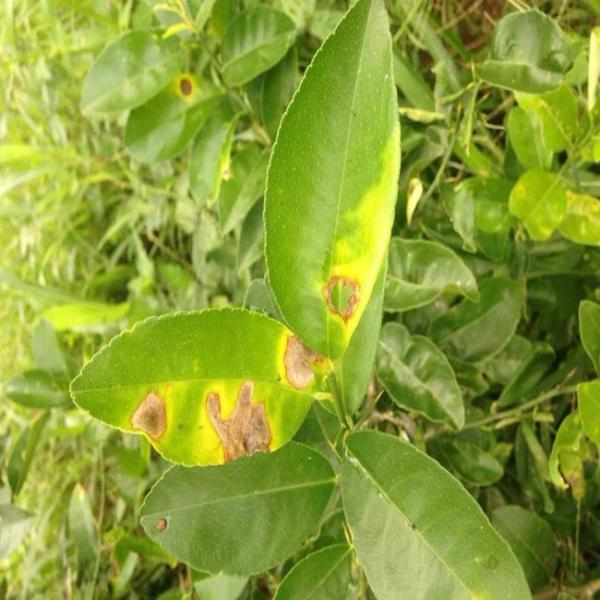blight: (283, 346, 375, 420), (170, 316, 255, 384), (65, 441, 139, 487), (381, 506, 426, 551)
